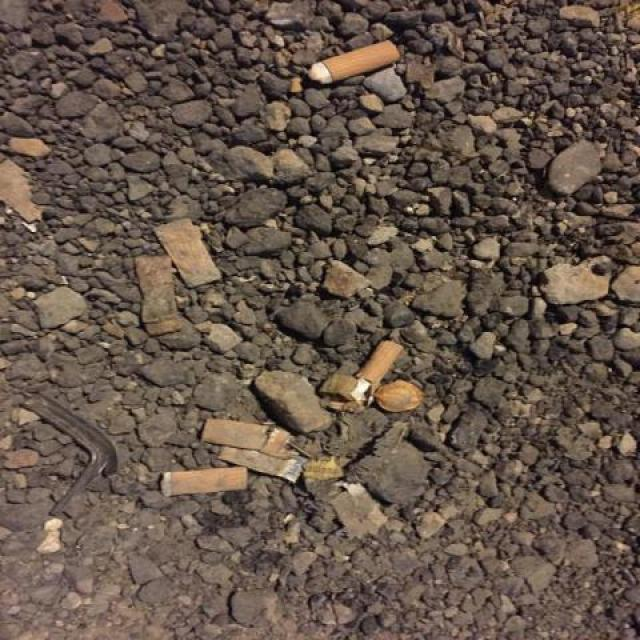non-organic waste: (343, 329, 409, 422), (304, 34, 404, 95), (195, 414, 310, 466), (149, 463, 254, 501)
